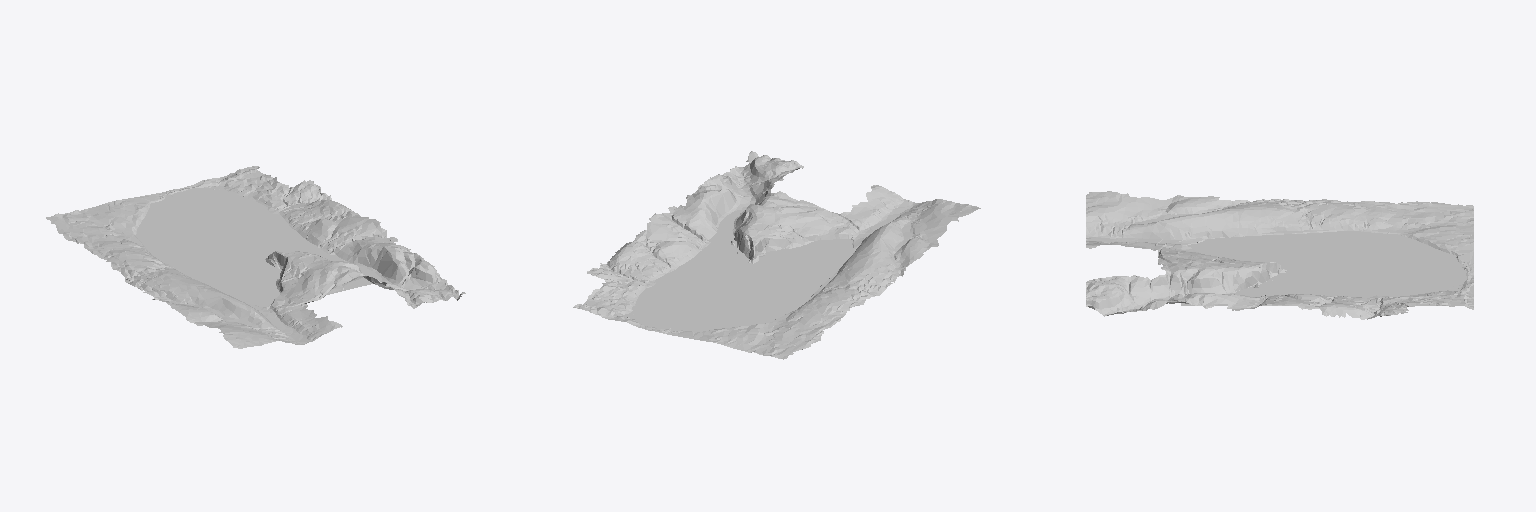
The model's file is terrain.obj.
3 renders of one model, left to right at view 1: azimuth 30°, elevation 25°; view 2: azimuth 150°, elevation 25°; view 3: azimuth 270°, elevation 25°, orthographic.
Parts seen in each view (by area): view 1: Grid_Grid.001, ice_floor_Plane; view 2: Grid_Grid.001, ice_floor_Plane; view 3: Grid_Grid.001, ice_floor_Plane.
Boxes of the visible parts, box(x1,y1,x2,y2) form: Grid_Grid.001: box(46, 166, 465, 348); ice_floor_Plane: box(111, 185, 381, 325); Grid_Grid.001: box(573, 151, 980, 359); ice_floor_Plane: box(589, 210, 923, 357); Grid_Grid.001: box(1086, 191, 1473, 319); ice_floor_Plane: box(1181, 231, 1466, 305).
Size of the model in its own units: 144 by 12 by 200.